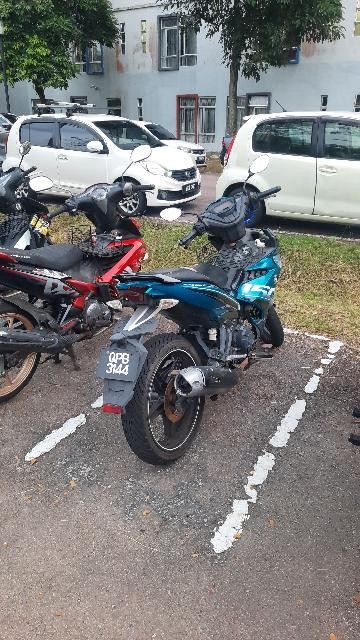License_Plate: (96, 347, 143, 383)
car: (7, 115, 199, 212), (217, 109, 360, 230)
motorcycle: (107, 149, 289, 465), (2, 142, 157, 402)
